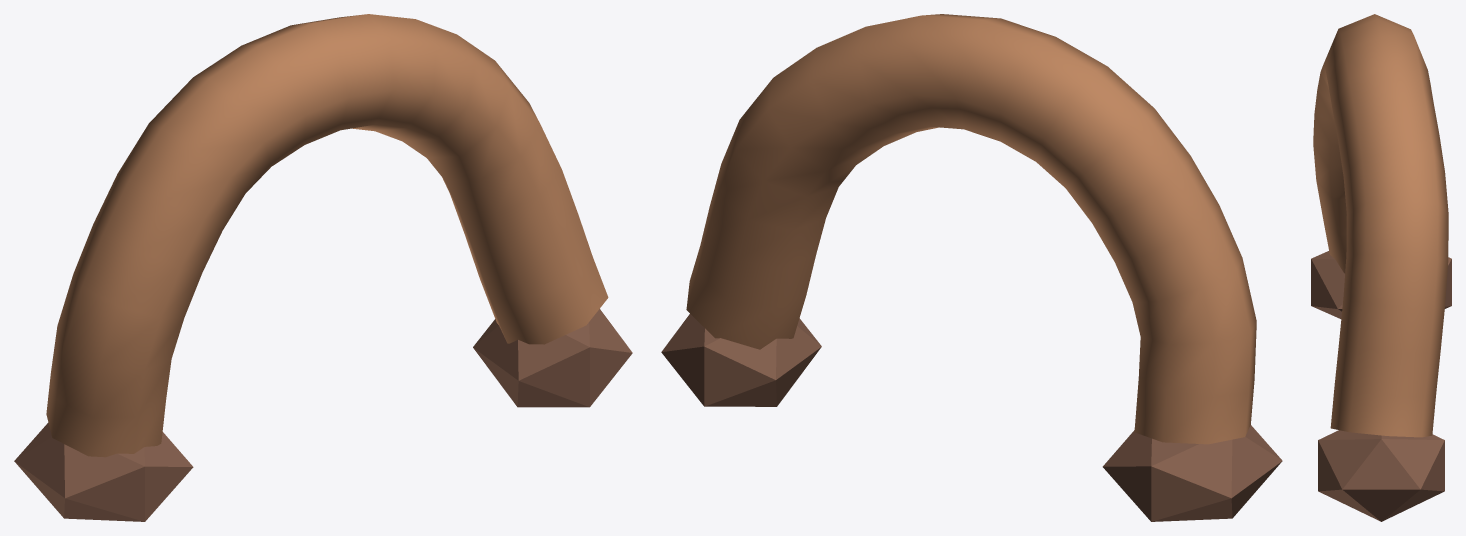
The model's file is arch-rock.glb.
3 renders of one model, left to right at view 1: azimuth 30°, elevation 25°; view 2: azimuth 150°, elevation 25°; view 3: azimuth 270°, elevation 25°, orthographic. The views are drawn at different scales.
Parts seen in each view (by area): view 1: Vesper / arch-rock; view 2: Vesper / arch-rock; view 3: Vesper / arch-rock.
Boxes of the visible parts, box(x1,y1,x2,y2) form: Vesper / arch-rock: box(14, 14, 632, 521); Vesper / arch-rock: box(661, 14, 1282, 521); Vesper / arch-rock: box(1311, 14, 1451, 521).
Size of the model in its own units: 6.8 by 4.95 by 1.7.
